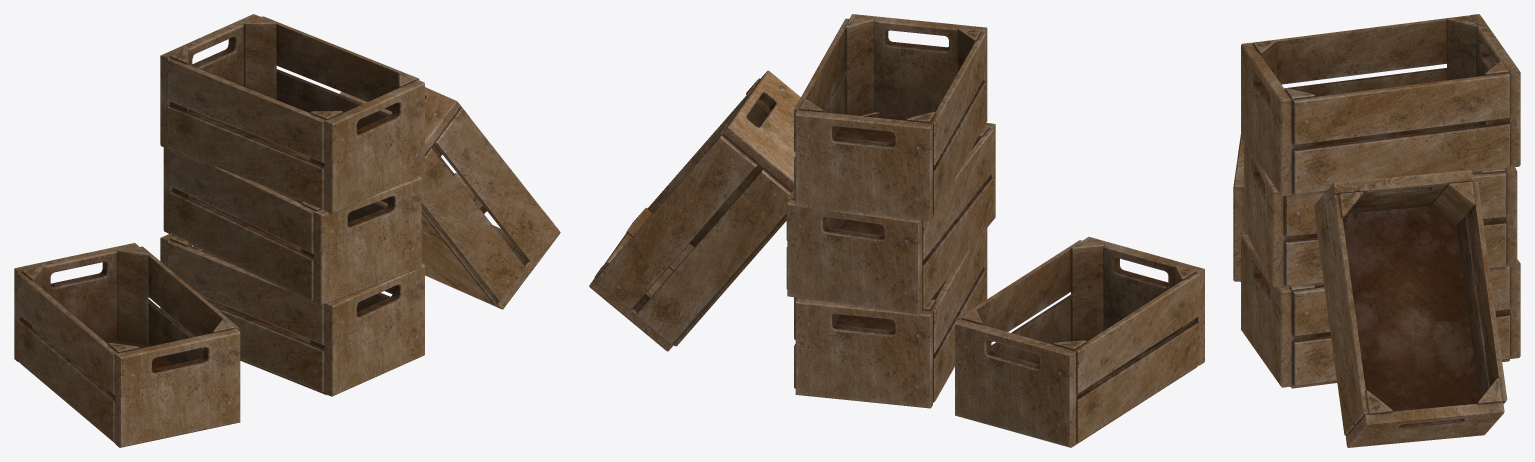
3 views of the same model, side by side, from view 1: azimuth 30°, elevation 25°; view 2: azimuth 150°, elevation 25°; view 3: azimuth 270°, elevation 25° (orthographic). The views are drawn at different scales.
Visible parts, largest first — view 1: Object_2; view 2: Object_2; view 3: Object_2.
Part boxes in pixels (bbox=[...]): Object_2: bbox=[14, 14, 560, 447]; Object_2: bbox=[589, 14, 1204, 447]; Object_2: bbox=[1233, 14, 1520, 447].
Bounding box in the file's own units: 27.4 × 14.58 × 12.97.
1 material, 1 textured.
